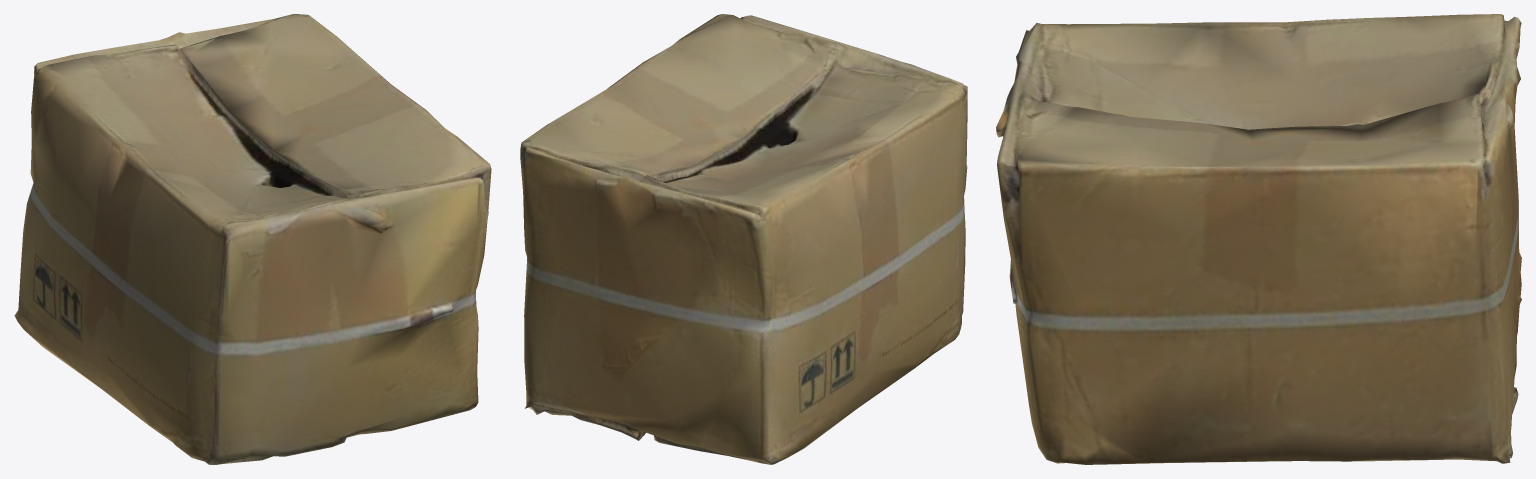
Rendered from cardboard.glb.
3 renders of one model, left to right at view 1: azimuth 30°, elevation 25°; view 2: azimuth 150°, elevation 25°; view 3: azimuth 270°, elevation 25°, orthographic. The views are drawn at different scales.
Visible parts, largest first — view 1: cardboard; view 2: cardboard; view 3: cardboard.
Boxes of the visible parts, x1,y1,x2,y2 form: cardboard: [14, 14, 491, 464]; cardboard: [520, 14, 967, 464]; cardboard: [996, 14, 1521, 464].
Bounding box in the file's own units: 0.3861 × 0.3407 × 0.5159.
1 material, 1 textured.
